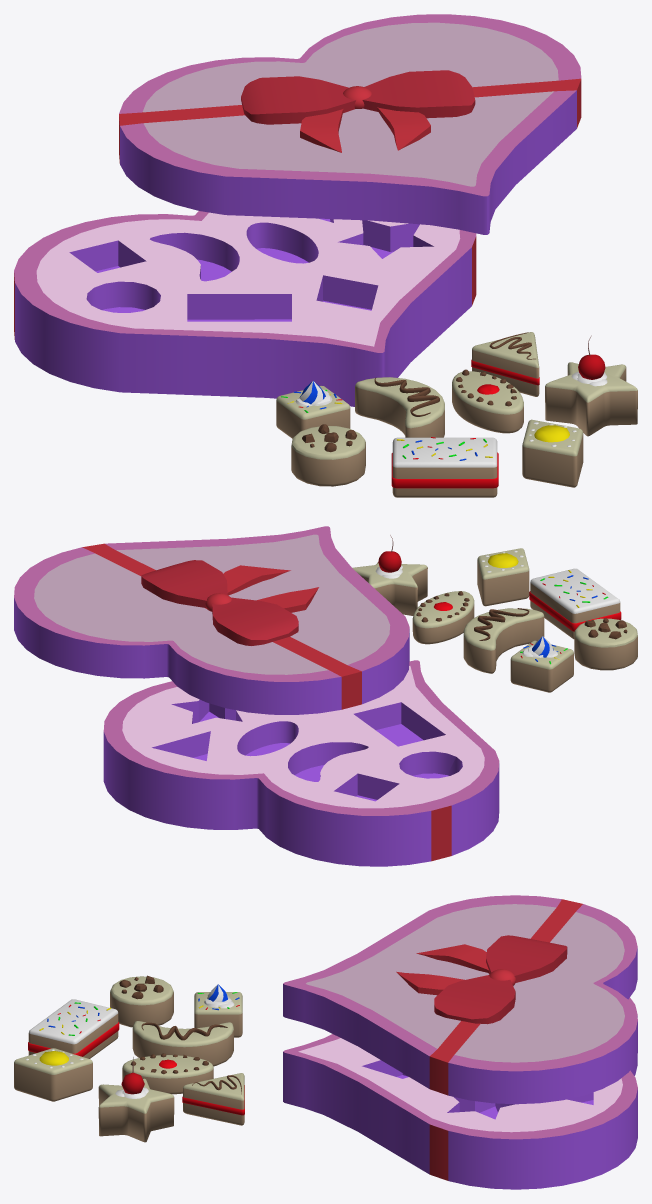
The model's file is Candies.fbx.
3 views of the same model, one above another, from view 1: azimuth 30°, elevation 25°; view 2: azimuth 150°, elevation 25°; view 3: azimuth 270°, elevation 25° (orthographic). The views are drawn at different scales.
Parts seen in each view (by area): view 1: Heart_top, Heart_bottom, Candy7, Candy6, Candy3, Candy1, Candy4, Candy8, Candy5, Candy2; view 2: Heart_top, Heart_bottom, Candy7, Candy3, Candy1, Candy6, Candy2, Candy8, Candy4; view 3: Heart_top, Heart_bottom, Candy6, Candy7, Candy8, Candy3, Candy1, Candy5, Candy4, Candy2.
Part boxes in pixels (x1,y1,x2,y2): Heart_top: [119, 14, 581, 234]; Heart_bottom: [14, 211, 476, 406]; Candy7: [391, 437, 498, 497]; Candy6: [545, 335, 637, 436]; Candy3: [355, 377, 444, 437]; Candy1: [291, 424, 365, 486]; Candy4: [452, 369, 523, 433]; Candy8: [522, 419, 583, 487]; Candy5: [471, 332, 539, 396]; Candy2: [276, 381, 350, 438]; Heart_top: [14, 526, 409, 714]; Heart_bottom: [103, 660, 499, 866]; Candy7: [529, 568, 621, 639]; Candy3: [463, 608, 544, 673]; Candy1: [574, 618, 637, 670]; Candy6: [352, 535, 427, 615]; Candy2: [510, 636, 573, 692]; Candy8: [477, 548, 529, 606]; Candy4: [412, 591, 474, 644]; Heart_top: [283, 895, 637, 1104]; Heart_bottom: [283, 997, 637, 1189]; Candy6: [98, 1057, 174, 1142]; Candy7: [28, 999, 119, 1058]; Candy8: [14, 1048, 92, 1101]; Candy3: [132, 1021, 233, 1066]; Candy1: [110, 975, 173, 1027]; Candy5: [182, 1073, 244, 1125]; Candy4: [122, 1053, 213, 1094]; Candy2: [194, 984, 242, 1037].
Size of the model in its own units: 270 by 99.71 by 324.
